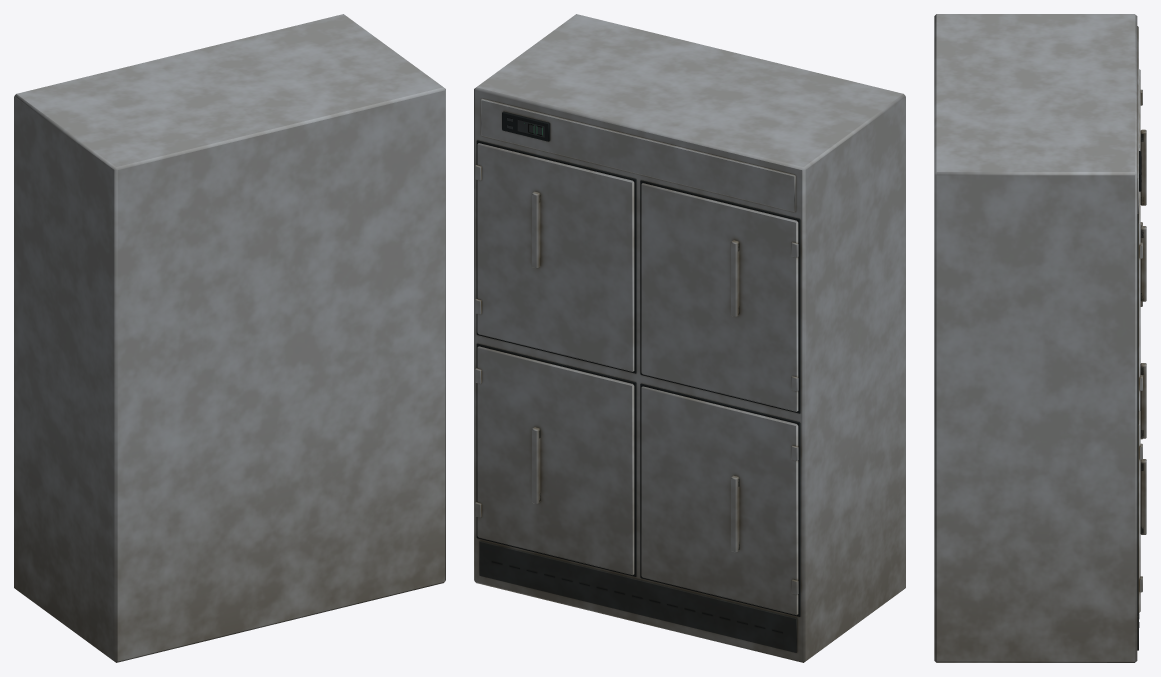
Rendered from geladeira_sujo_realista.glb.
3 views of the same model, side by side, from view 1: azimuth 30°, elevation 25°; view 2: azimuth 150°, elevation 25°; view 3: azimuth 270°, elevation 25° (orthographic).
Visible parts, largest first — view 1: Cozinha_Geladeira_PBR; view 2: Cozinha_Geladeira_PBR; view 3: Cozinha_Geladeira_PBR.
Part boxes in pixels (x1=…): Cozinha_Geladeira_PBR: x1=14, y1=14, x2=445, y2=662; Cozinha_Geladeira_PBR: x1=474, y1=14, x2=905, y2=662; Cozinha_Geladeira_PBR: x1=934, y1=14, x2=1146, y2=662.
Bounding box in the file's own units: 1.4 × 2 × 0.785.
1 material, 1 textured.
